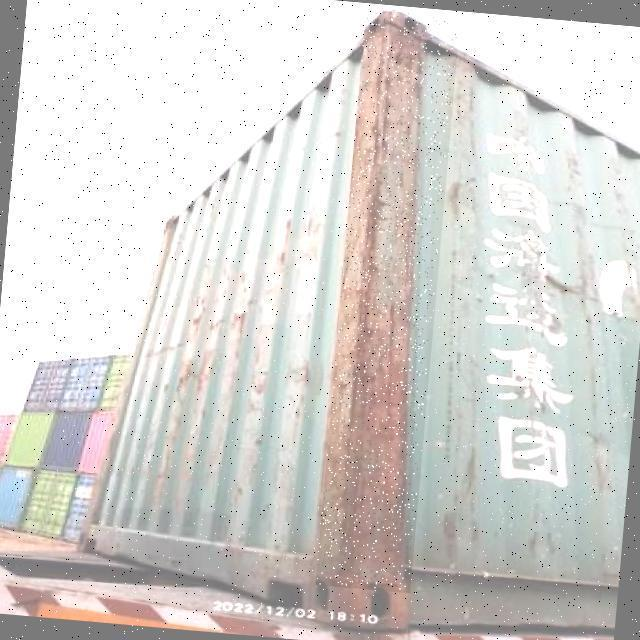rust: (318, 13, 432, 593)
